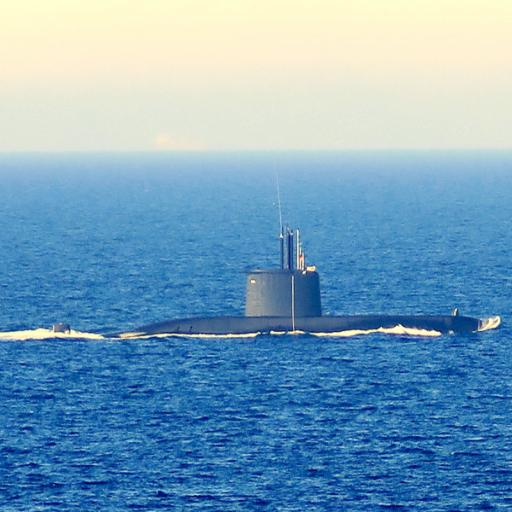submarine: (29, 227, 489, 330)
